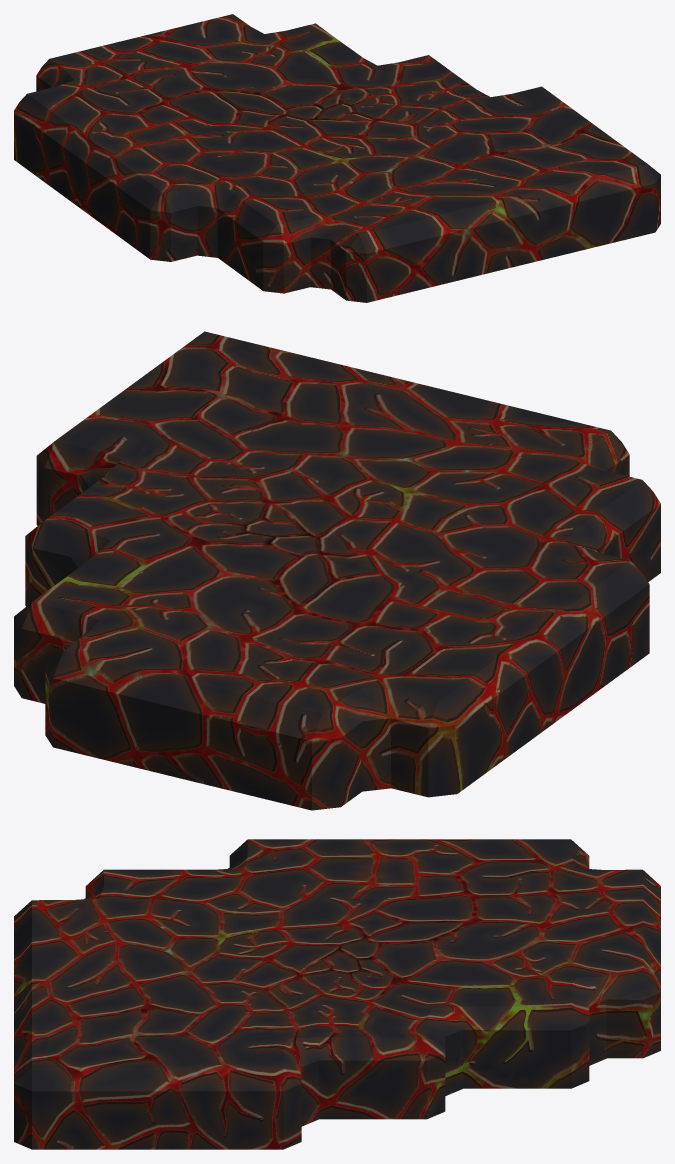
Rendered from IslandMid.fbx.
3 renders of one model, top to bottom at view 1: azimuth 30°, elevation 25°; view 2: azimuth 150°, elevation 25°; view 3: azimuth 270°, elevation 25°, orthographic. The views are drawn at different scales.
Visible parts, largest first — view 1: Medium_Island1; view 2: Medium_Island1; view 3: Medium_Island1.
Boxes of the visible parts, x1=… form: Medium_Island1: x1=14, y1=14, x2=660, y2=302; Medium_Island1: x1=14, y1=331, x2=660, y2=810; Medium_Island1: x1=14, y1=839, x2=660, y2=1149.
Bounding box in the file's own units: 834 × 119 × 938.
